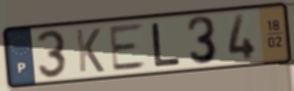3: (186, 14, 221, 67), (35, 28, 70, 80)
4: (226, 11, 258, 62)
E: (107, 21, 149, 74)
K: (73, 27, 106, 75)
L: (150, 21, 183, 68)
